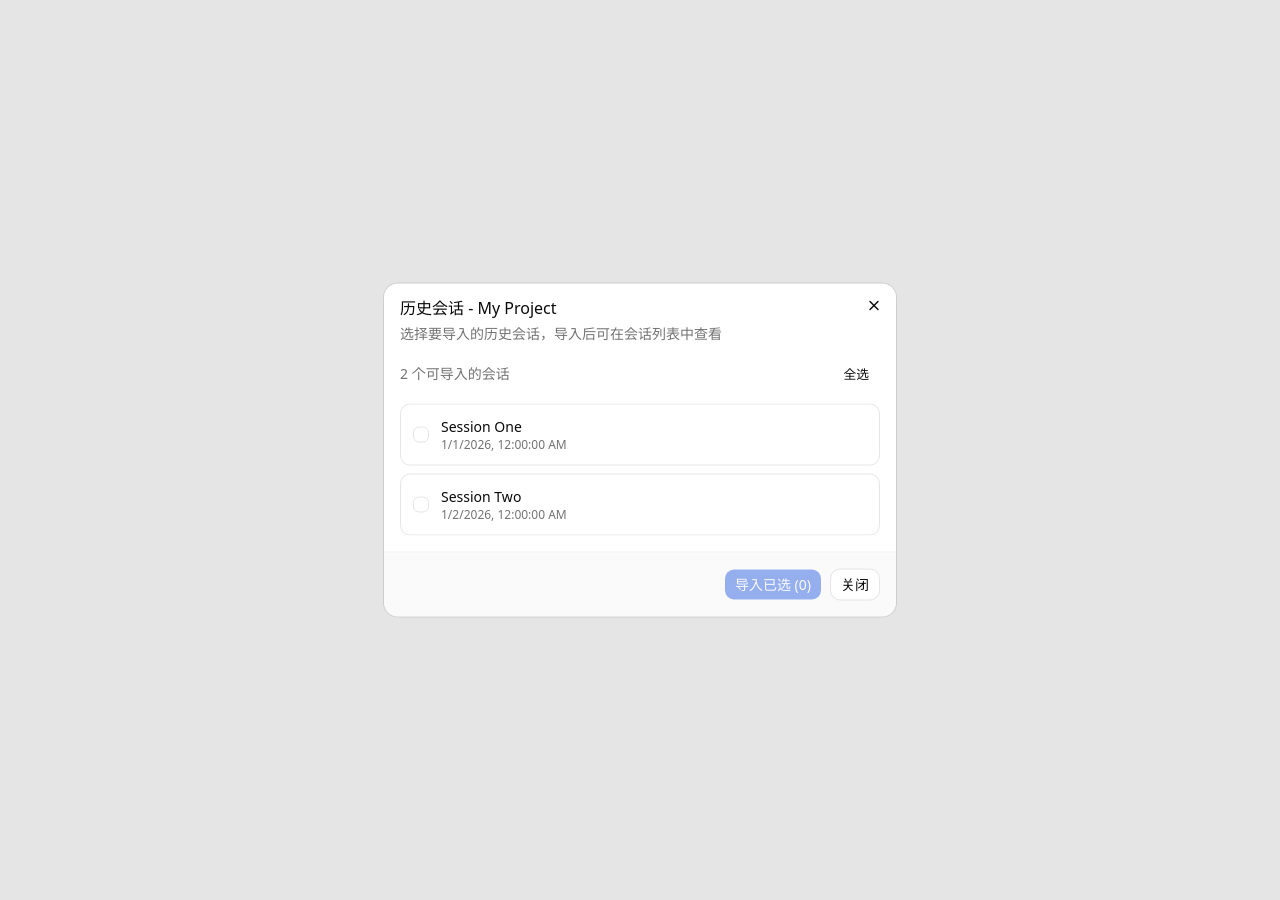
Test case: HistorySessionDialog › should select all sessions when clicking select all
The width and height of the screenshot is (1280, 900).
Click the button "全选": (856, 374) [832,360,880,388]
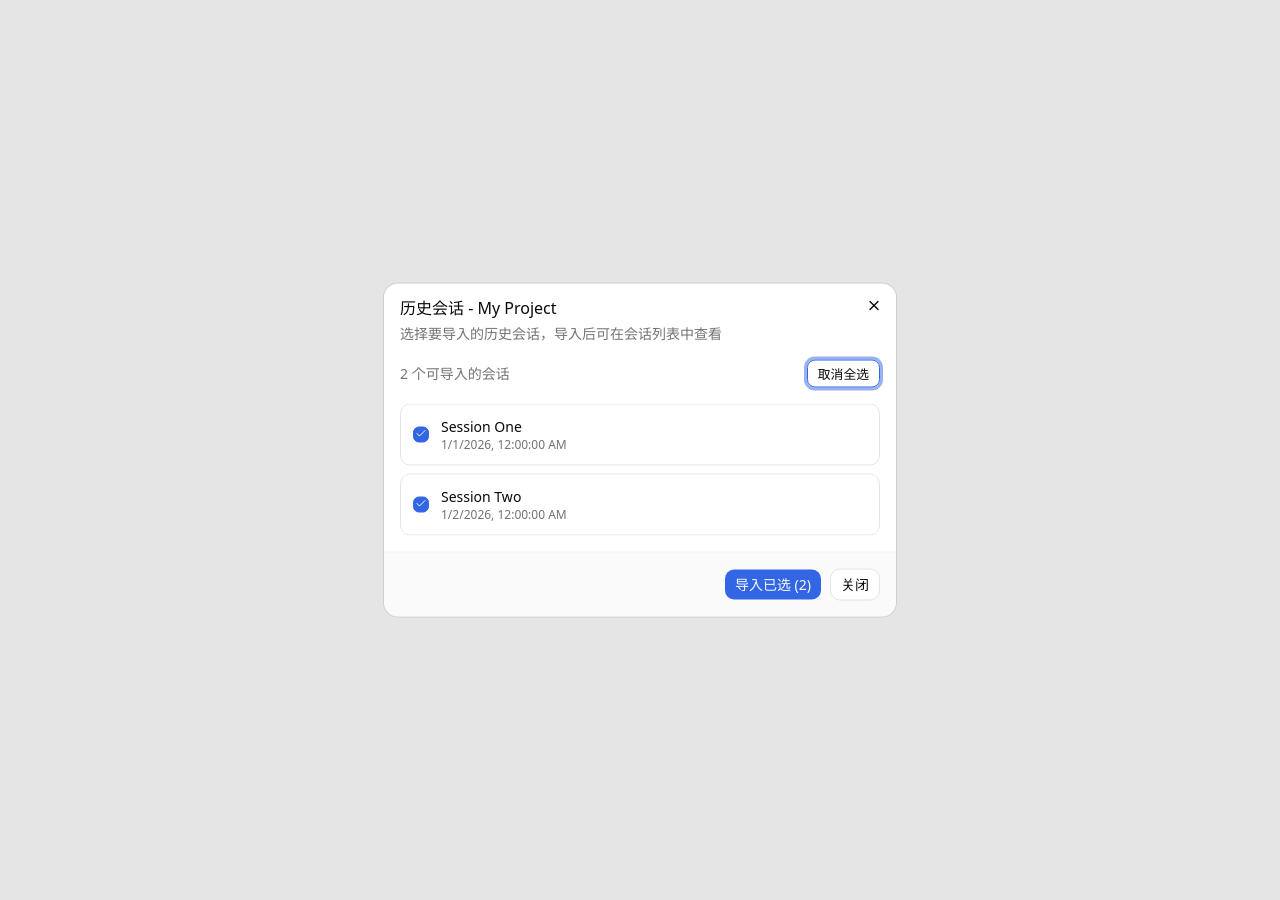
Check: the button "导入已选 (2)" is enabled, box [724,568,822,600]
